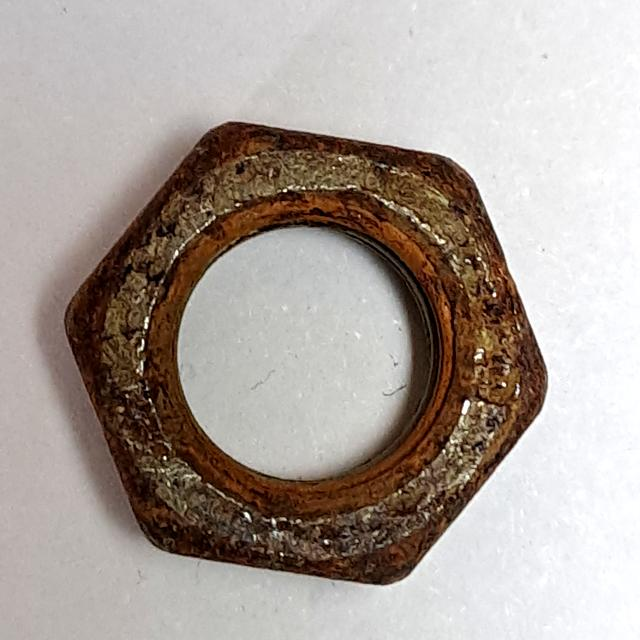Rust: (53, 113, 562, 604)
